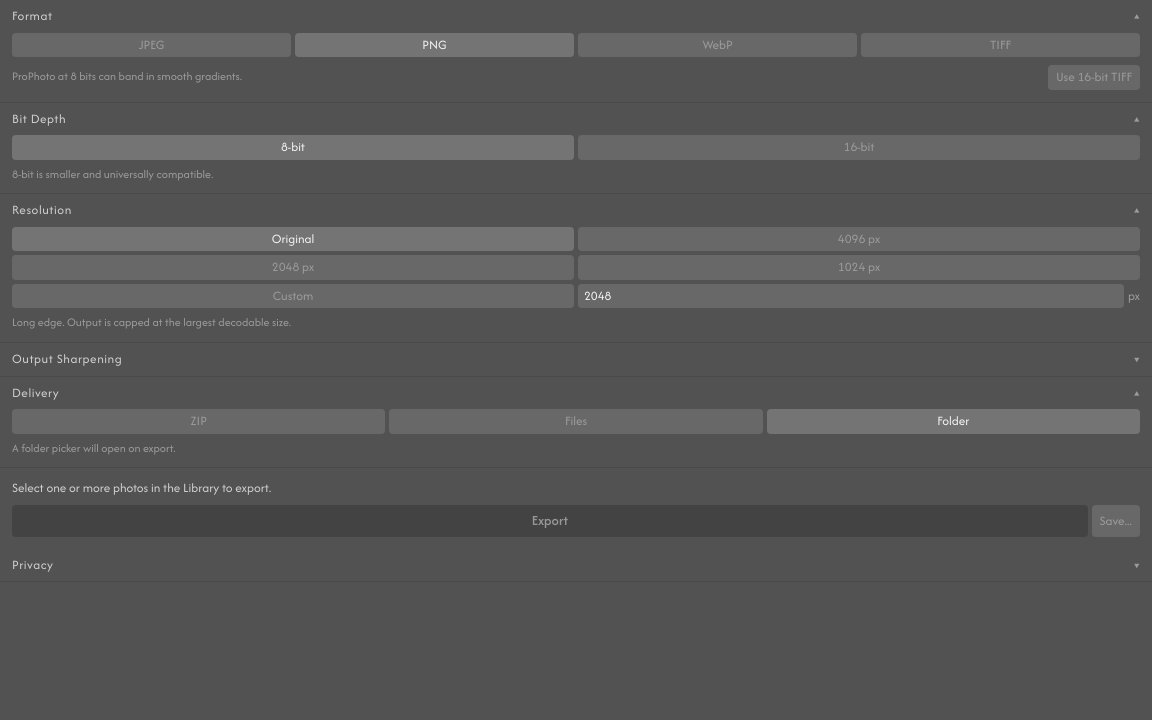
Scenario: the Bit Depth panel › shows for PNG at 8 bits even when TIFF's Preference is 16
Expected: the text "ProPhoto at 8 bits can band in smooth gradients." is shown, x1=12 y1=68 x2=242 y2=84
Click the button "16-bit" at (859, 147), box x1=578 y1=135 x2=1140 y2=160
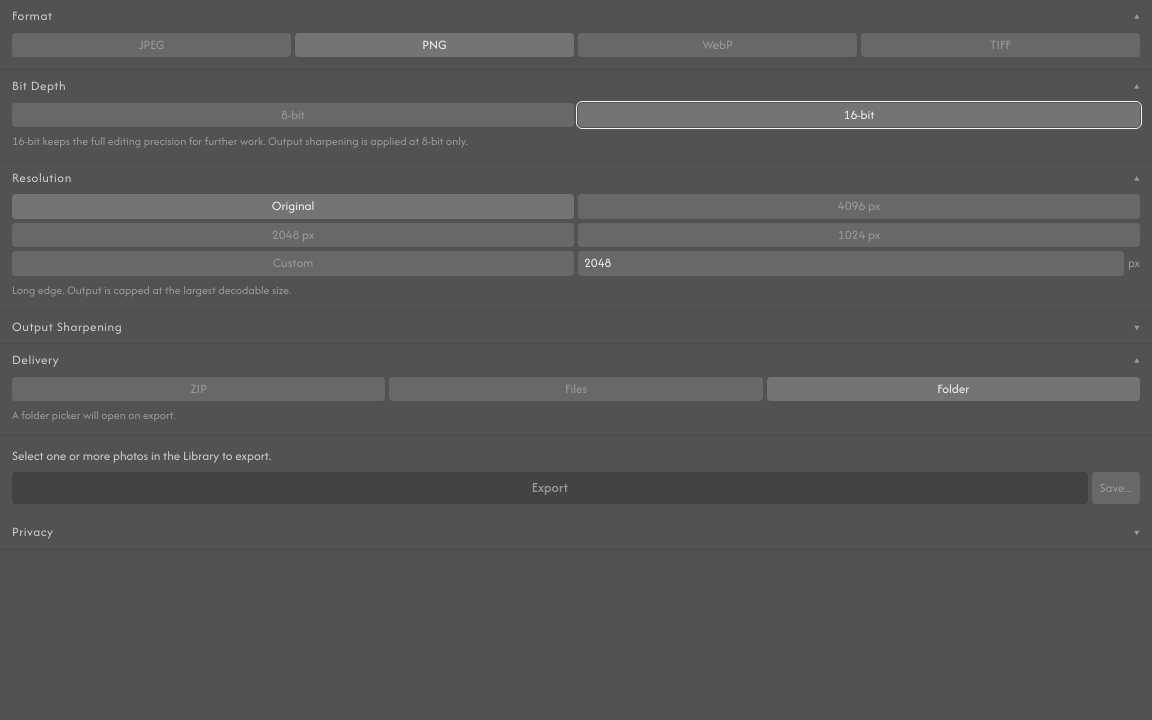
Now the text "ProPhoto at 8 bits can band in smooth gradients." is gone
